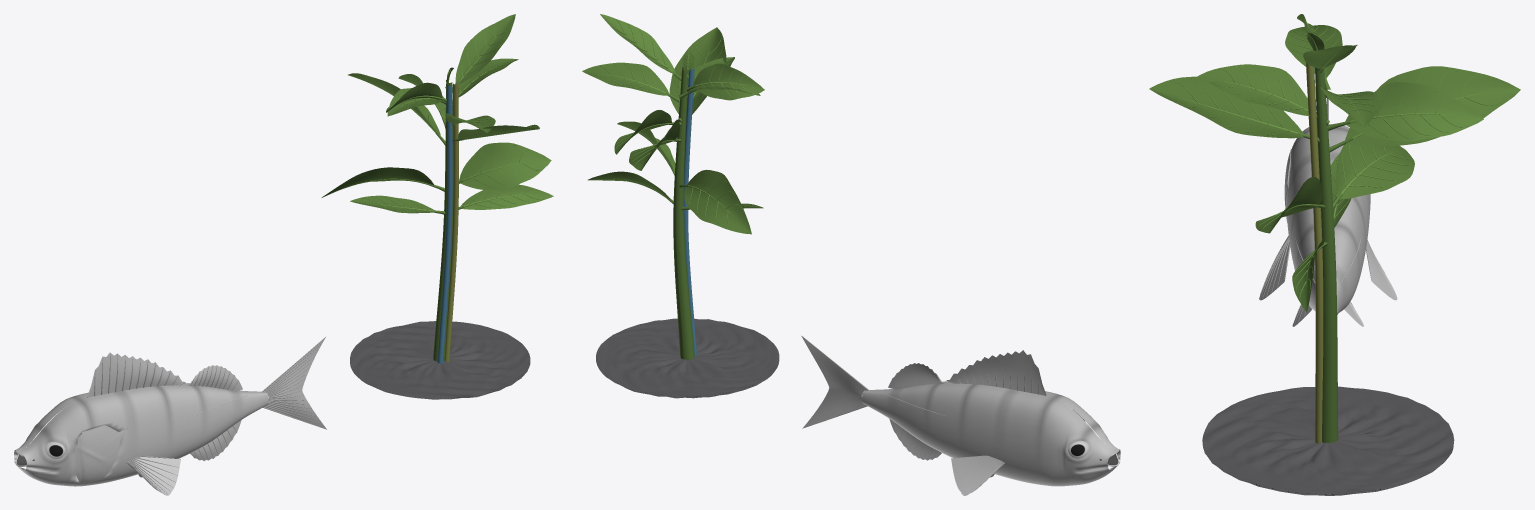
File: accepted-sculpt.glb
3 views of the same model, side by side, from view 1: azimuth 30°, elevation 25°; view 2: azimuth 150°, elevation 25°; view 3: azimuth 270°, elevation 25° (orthographic). The views are drawn at different scales.
Parts seen in each view (by area): view 1: plant-specimen, fish-body, gill-cover; view 2: plant-specimen, fish-body; view 3: plant-specimen, fish-body.
Boxes of the visible parts, x1=… form: plant-specimen: x1=321, y1=14, x2=553, y2=399; fish-body: x1=14, y1=337, x2=326, y2=495; gill-cover: x1=75, y1=425, x2=127, y2=482; plant-specimen: x1=582, y1=14, x2=779, y2=398; fish-body: x1=801, y1=335, x2=1120, y2=495; plant-specimen: x1=1149, y1=14, x2=1520, y2=495; fish-body: x1=1259, y1=98, x2=1397, y2=326.
Size of the model in its own units: 0.4082 by 0.2797 by 0.1783.
